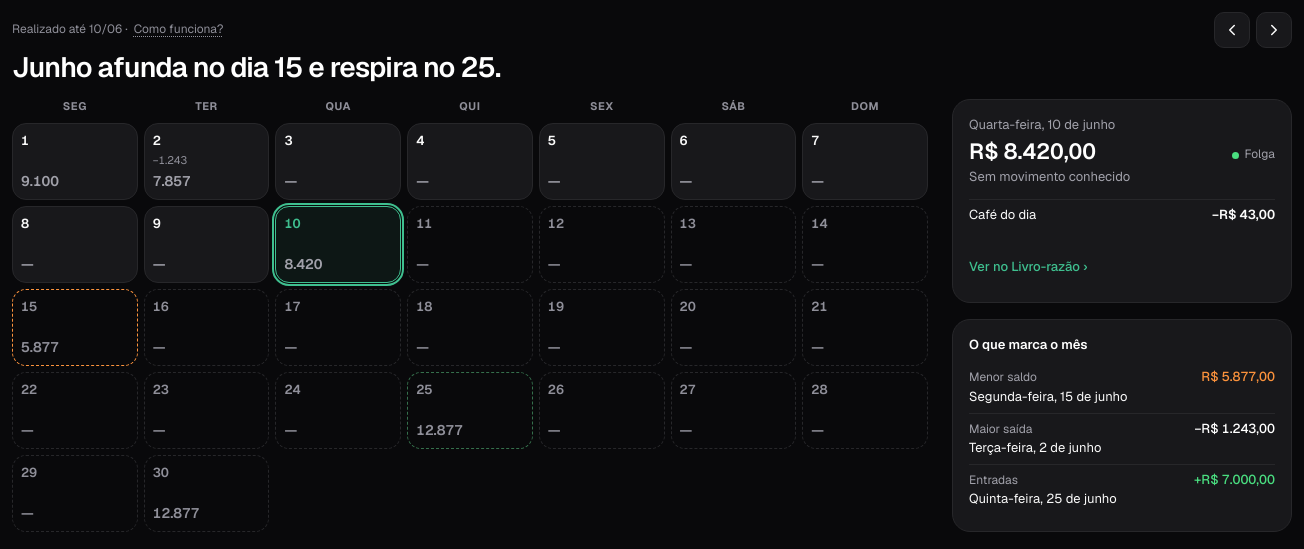
YearGridScreen (Calendário) › dia sem lançamentos e sem componentes tem o vazio honesto
The image size is (1304, 549).
// 13/06 (projeção): nenhum componente e nenhum lançamento.
Click the cell named "13 de junho" at coordinates (733, 244), box [671,206,796,283]
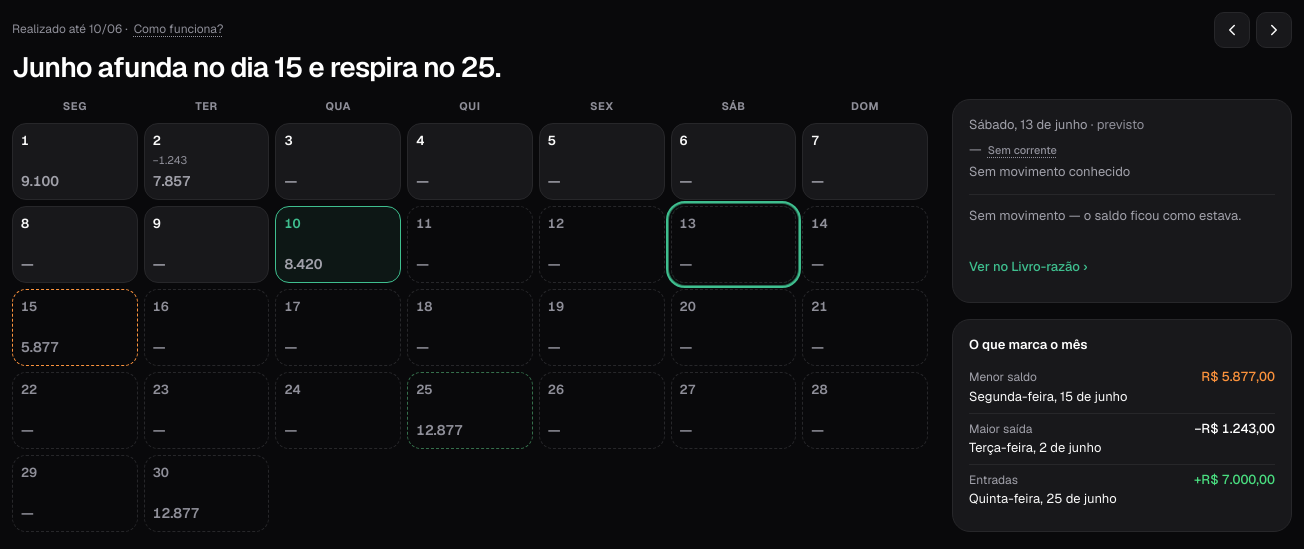
Check: the text "Sem movimento — o saldo ficou como estava." is shown, box [969,194,1275,226]
